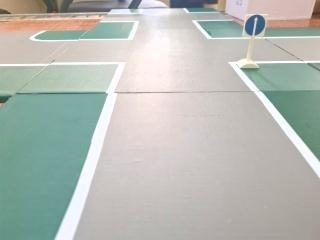straight: (242, 8, 270, 41)
